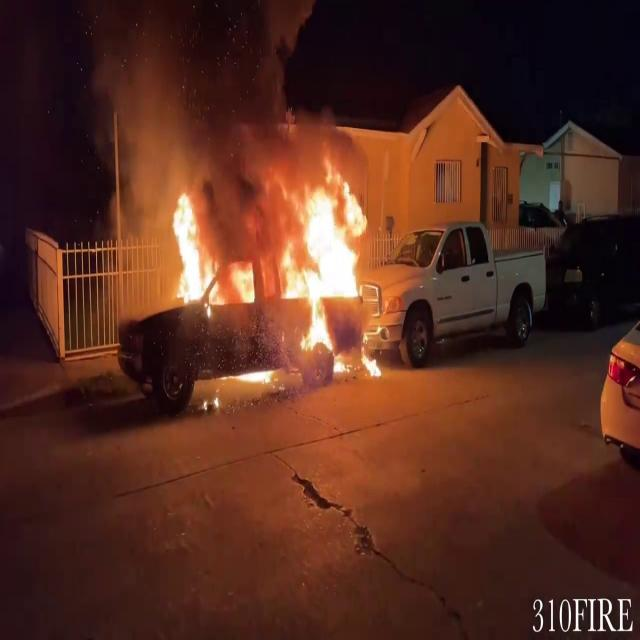Fire: (155, 160, 385, 374)
Smoke: (88, 2, 338, 206)
